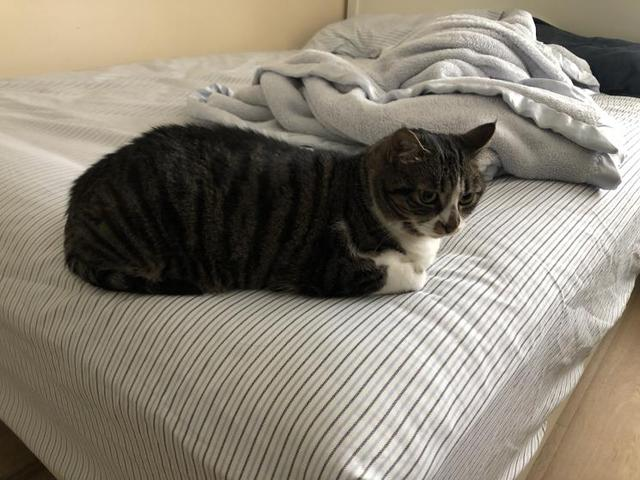playdoh: (59, 121, 492, 302)
